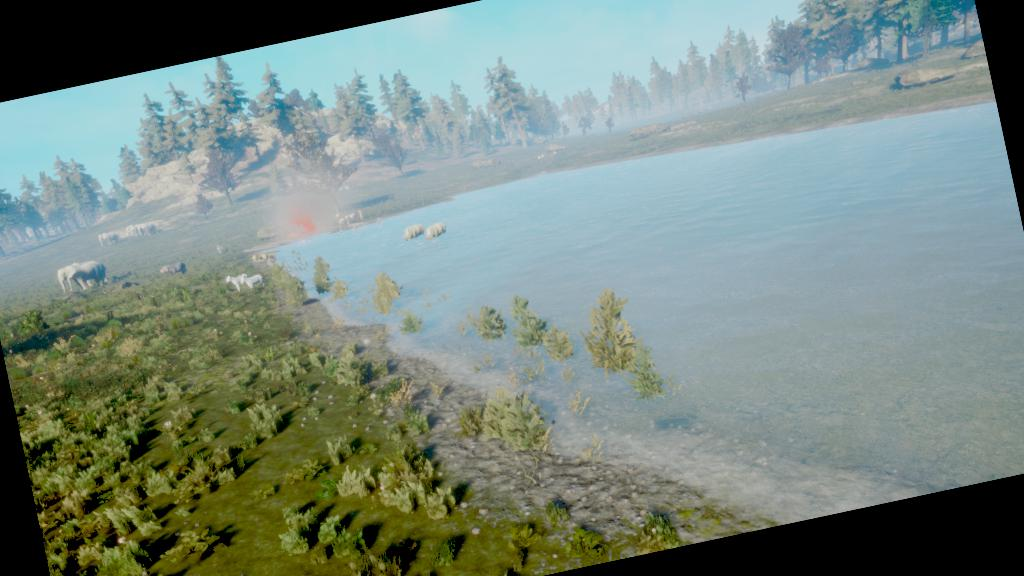Fire: (282, 200, 322, 243)
elephant: (52, 254, 111, 297), (122, 219, 152, 241), (132, 219, 162, 239), (94, 228, 120, 249)
hippopotamus: (154, 258, 190, 282)
human: (212, 240, 229, 258), (373, 214, 385, 230), (348, 222, 360, 236), (336, 223, 347, 236), (356, 208, 366, 222), (343, 214, 349, 220)
lion: (250, 250, 270, 266), (256, 250, 278, 264)
pig: (332, 212, 342, 220), (347, 212, 357, 219), (336, 218, 346, 225)
rhinoceros: (420, 220, 449, 244), (400, 220, 426, 242)
smoke: (266, 184, 336, 248)
zebra: (223, 270, 252, 293), (238, 272, 268, 292)
